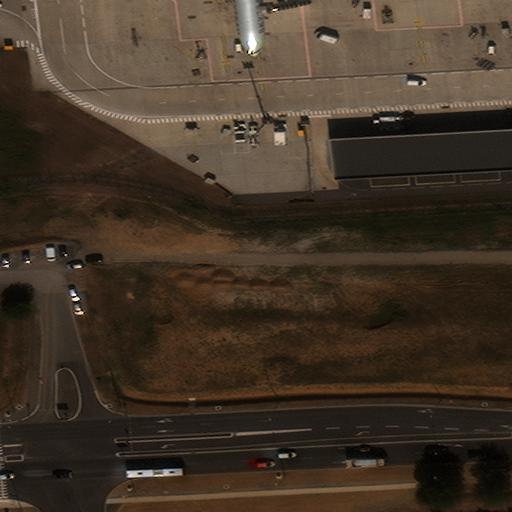Large Civil Transport: (183, 0, 305, 57)
